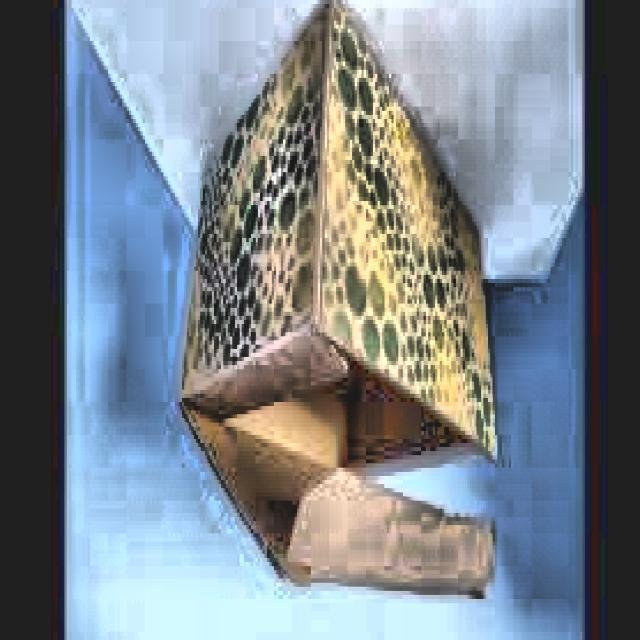cardboard: (172, 0, 498, 603)
